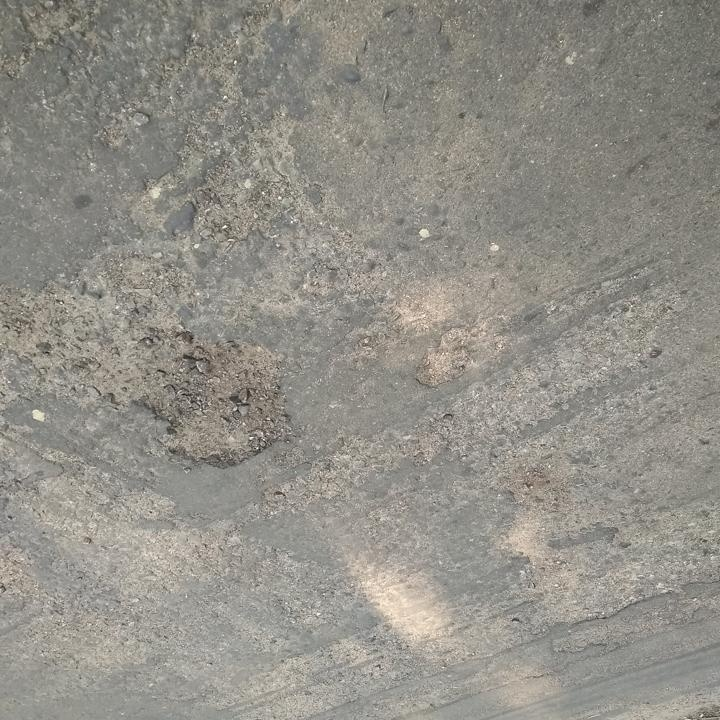pothole: (136, 341, 301, 472), (188, 111, 314, 246), (410, 327, 473, 390)
